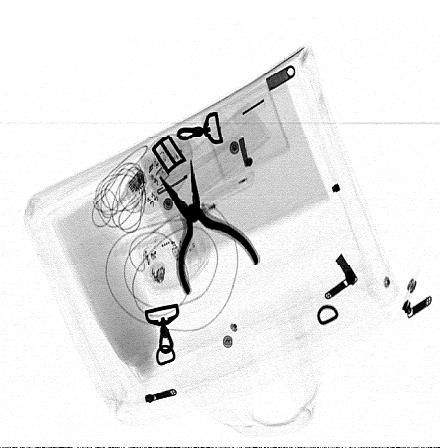Pliers: (158, 158, 259, 296)
